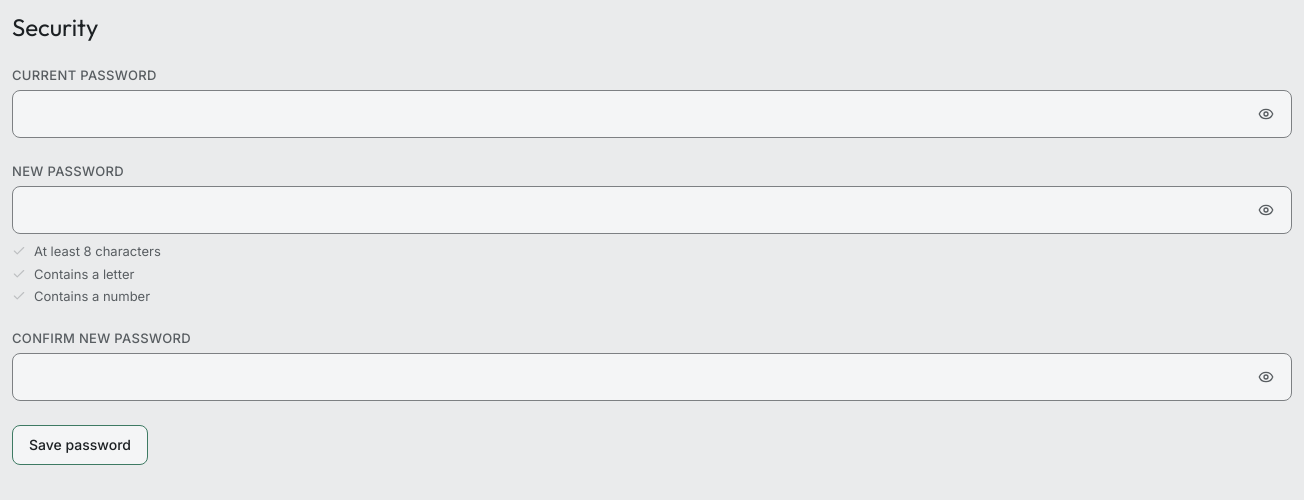
Test: SecuritySection › surfaces the action's same-password message verbatim
Type "BetterPass123" into the password field labelled "Current password" at (652, 114), box top-left (12, 90), bottom-right (1292, 138)
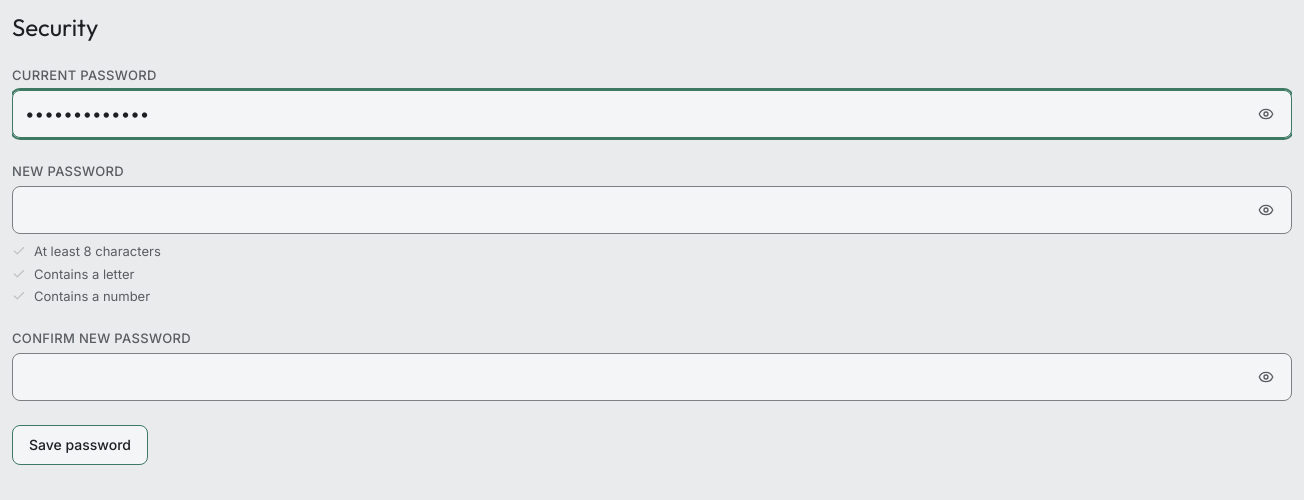
Type "BetterPass123" into the password field labelled "New password" at (652, 210), box top-left (12, 186), bottom-right (1292, 234)
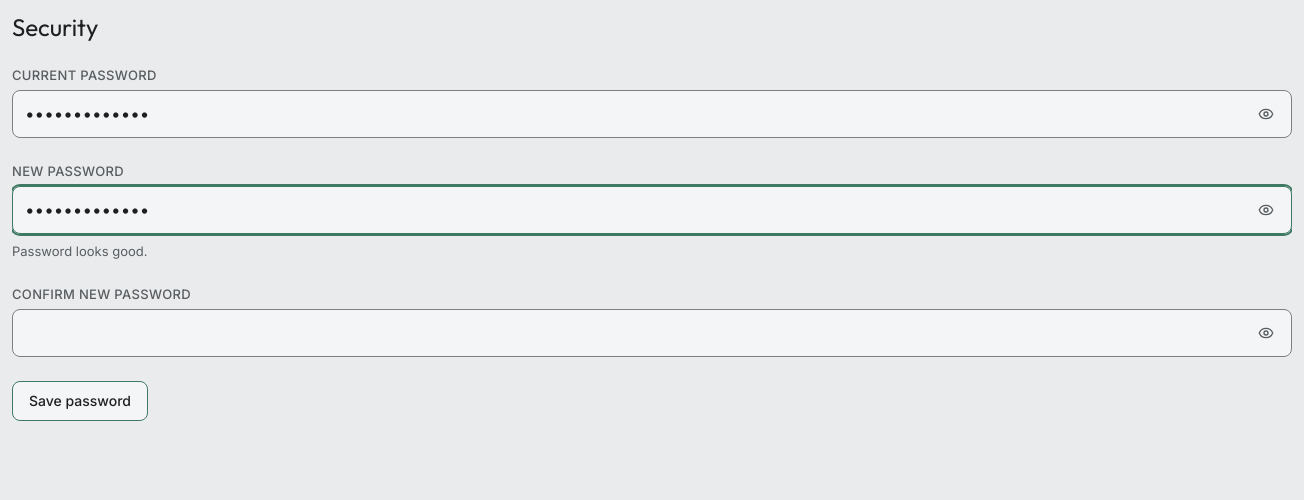
Type "BetterPass123" into the password field labelled "Confirm new password" at (652, 333), box top-left (12, 309), bottom-right (1292, 357)
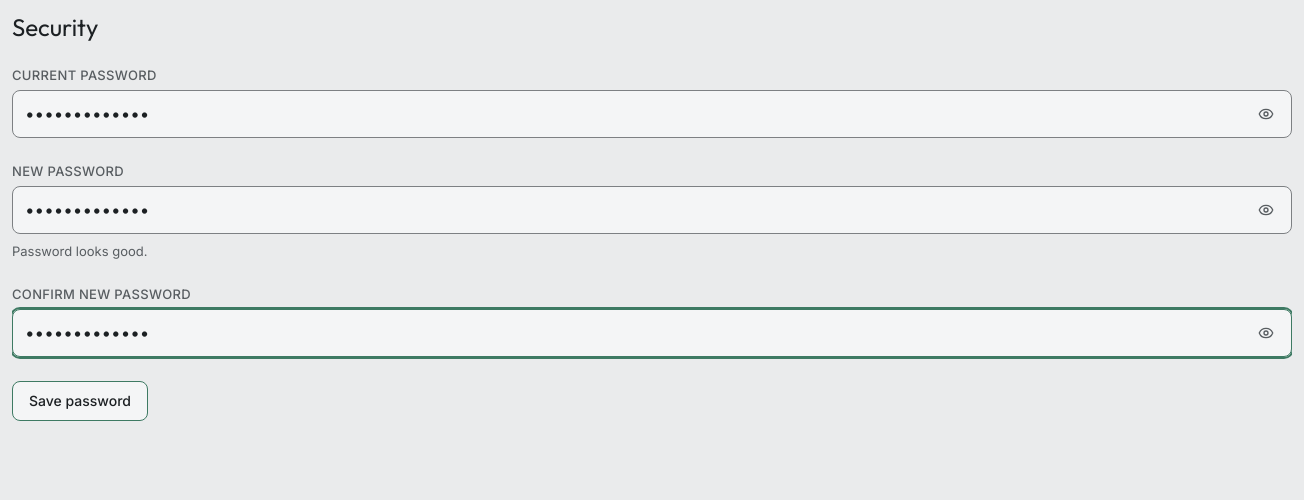
Click the button "Save password" at (80, 401), box top-left (12, 381), bottom-right (148, 421)
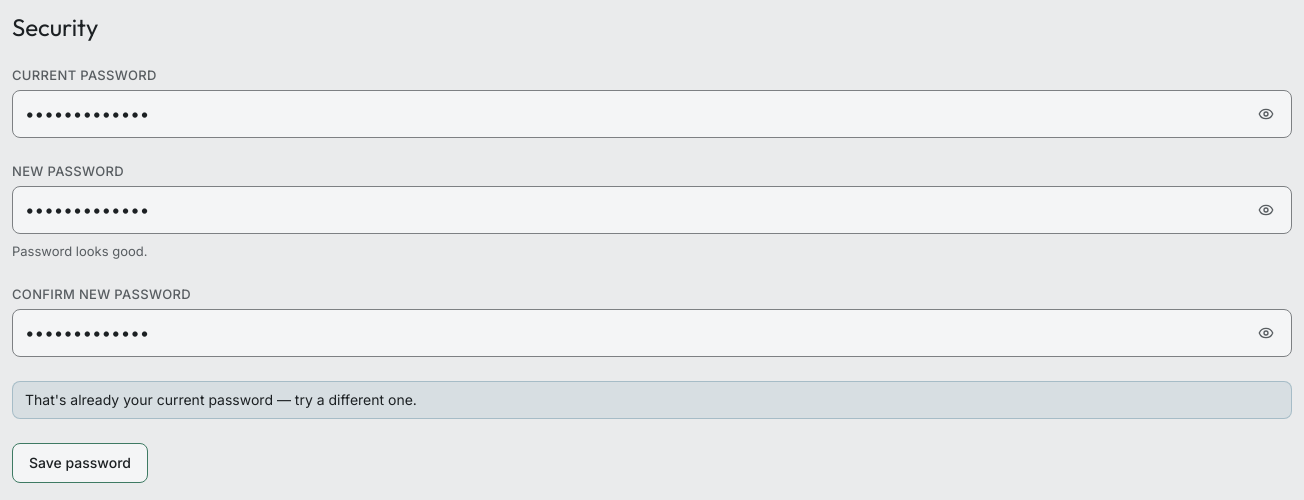
expect the message reads "That's already your current password — try a different one.": met, box top-left (25, 391), bottom-right (417, 408)
